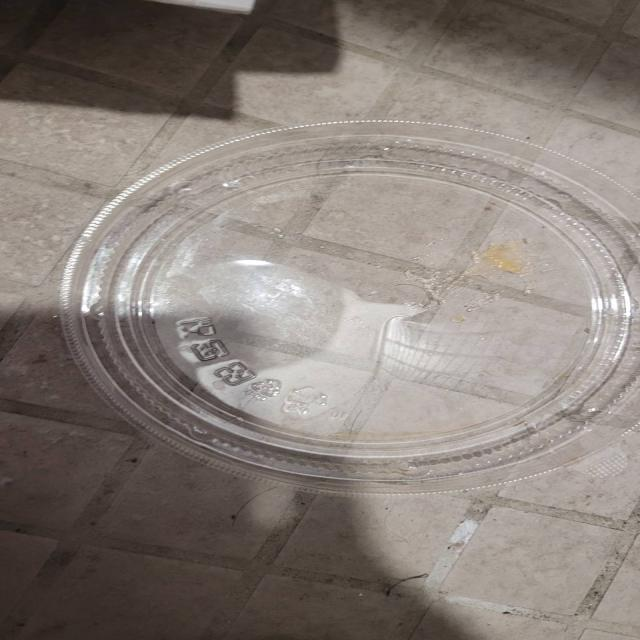Plastic: (44, 115, 640, 515)
